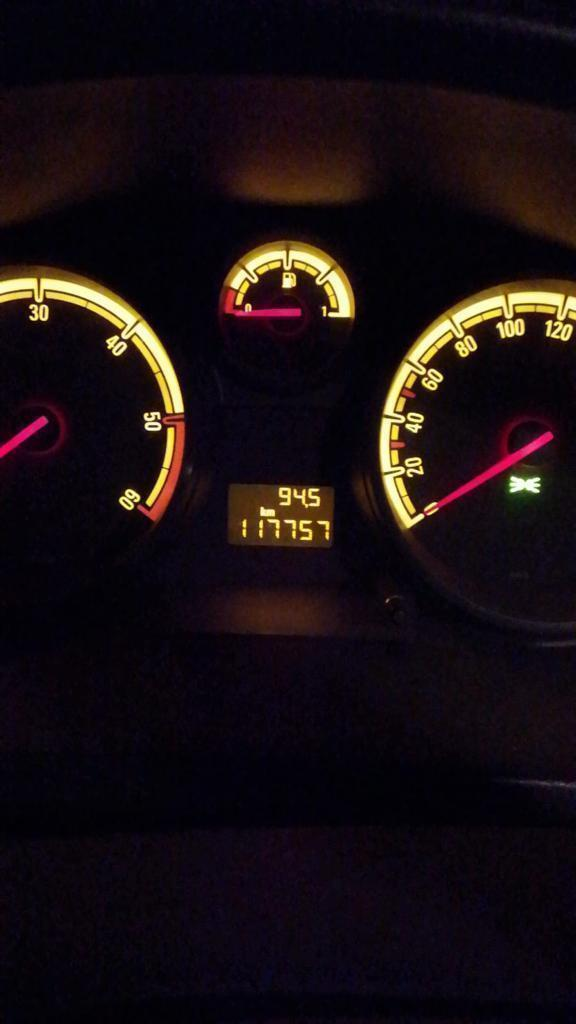,: (304, 503, 308, 509)
1: (257, 519, 264, 539), (241, 518, 247, 538)
4: (292, 487, 306, 506)
5: (298, 519, 313, 541), (307, 487, 321, 506)
7: (315, 520, 330, 541), (266, 518, 280, 539), (282, 518, 296, 539)
9: (278, 486, 291, 506)
X: (266, 508, 275, 516), (259, 506, 266, 516)
odometer: (224, 481, 336, 550)
